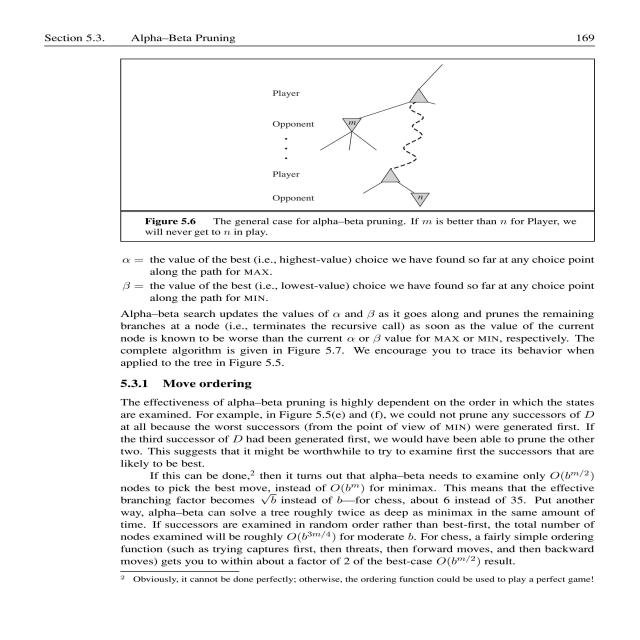diagram: (117, 56, 602, 250)
